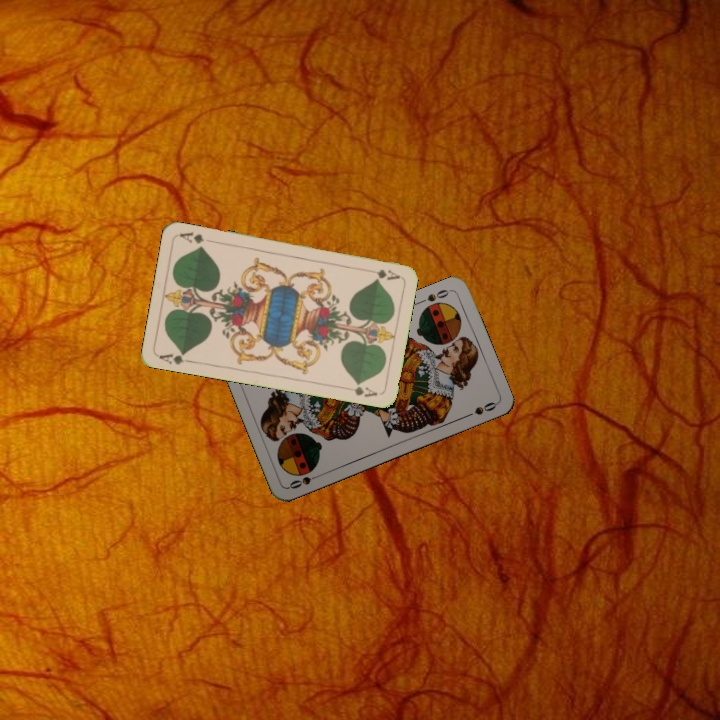GA: (155, 348, 196, 367), (362, 265, 402, 282)
SO: (285, 470, 324, 491), (414, 285, 453, 306)
